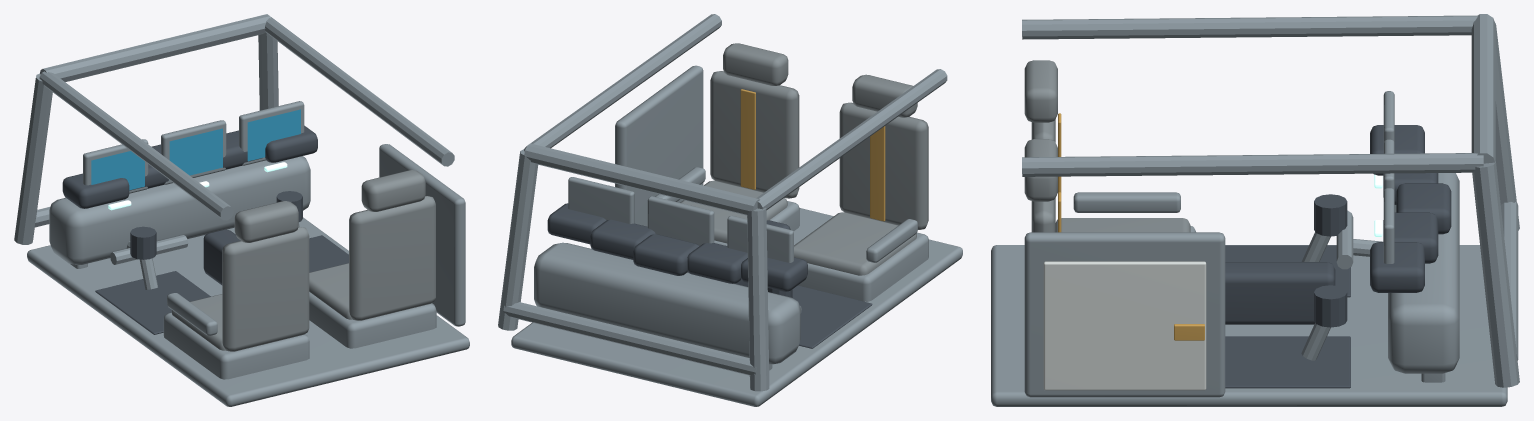
Rendered from improved_cockpit.glb.
3 views of the same model, side by side, from view 1: azimuth 30°, elevation 25°; view 2: azimuth 150°, elevation 25°; view 3: azimuth 270°, elevation 25° (orthographic). The views are drawn at different scales.
Parts seen in each view (by area): view 1: CabinFloor, DashboardLower, SeatBack_L, SeatBack_R, HatchFrame, WindshieldTop, SeatFrame_L, RoofRailLeft, RoofRailRight, SeatFrame_R, WindowPillar_L, FloorGripLeft (+20 smaller); view 2: DashboardLower, CabinFloor, SeatBack_R, HatchFrame, SeatBack_L, WindshieldTop, WindshieldLower, SeatCushion_L, RoofRailLeft, RoofRailRight, WindowPillar_L, SeatFrame_L (+18 smaller); view 3: CabinFloor, HatchPanel, HatchFrame, RoofRailRight, RoofRailLeft, DashboardLower, FloorGripRight, CenterConsole, WindowPillar_R, WindshieldTop, DashboardArc_4, Armrest_L (+19 smaller).
Part boxes in pixels (x1=…): CabinFloor: x1=27, y1=217, x2=469, y2=406; DashboardLower: x1=49, y1=156, x2=310, y2=264; SeatBack_L: x1=222, y1=227, x2=309, y2=351; SeatBack_R: x1=349, y1=196, x2=435, y2=320; HatchFrame: x1=379, y1=144, x2=465, y2=326; WindshieldTop: x1=40, y1=14, x2=270, y2=81; SeatFrame_L: x1=163, y1=312, x2=309, y2=379; RoofRailLeft: x1=39, y1=71, x2=233, y2=220; RoofRailRight: x1=265, y1=16, x2=454, y2=166; SeatFrame_R: x1=309, y1=292, x2=436, y2=348; WindowPillar_L: x1=14, y1=73, x2=52, y2=244; FloorGripLeft: x1=95, y1=271, x2=210, y2=334; DashboardLower: x1=534, y1=242, x2=800, y2=364; CabinFloor: x1=511, y1=208, x2=962, y2=406; SeatBack_R: x1=710, y1=71, x2=799, y2=198; HatchFrame: x1=615, y1=65, x2=703, y2=226; SeatBack_L: x1=839, y1=102, x2=928, y2=229; WindshieldTop: x1=524, y1=143, x2=759, y2=215; WindshieldLower: x1=503, y1=302, x2=756, y2=375; SeatCushion_L: x1=794, y1=212, x2=916, y2=275; RoofRailLeft: x1=756, y1=69, x2=947, y2=210; RoofRailRight: x1=524, y1=14, x2=721, y2=151; WindowPillar_L: x1=747, y1=207, x2=769, y2=391; SeatFrame_L: x1=798, y1=232, x2=928, y2=301; CabinFloor: x1=991, y1=245, x2=1507, y2=406; HatchPanel: x1=1043, y1=261, x2=1206, y2=390; HatchFrame: x1=1024, y1=232, x2=1225, y2=397; RoofRailRight: x1=1022, y1=153, x2=1483, y2=176; RoofRailLeft: x1=1022, y1=15, x2=1477, y2=39; DashboardLower: x1=1388, y1=173, x2=1459, y2=373; FloorGripRight: x1=1225, y1=336, x2=1350, y2=388; CenterConsole: x1=1225, y1=262, x2=1335, y2=324; WindowPillar_R: x1=1472, y1=161, x2=1519, y2=387; WindshieldTop: x1=1471, y1=14, x2=1495, y2=163; DashboardArc_4: x1=1370, y1=242, x2=1424, y2=292; Armrest_L: x1=1073, y1=192, x2=1180, y2=212.
Bounding box in the file's own units: 1.65 × 1.17 × 2.21.
